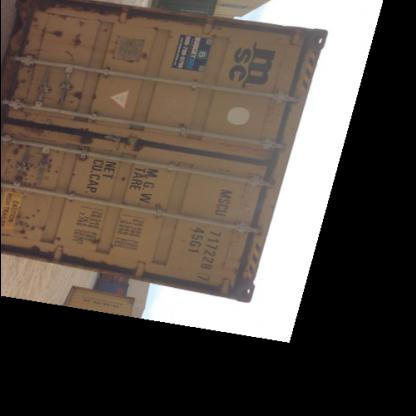Damage: (4, 136, 64, 195), (8, 208, 54, 246), (94, 1, 140, 32), (10, 62, 35, 112), (40, 5, 94, 26), (39, 24, 67, 62), (72, 82, 106, 104), (203, 22, 229, 46), (124, 48, 154, 66), (126, 133, 150, 155), (152, 23, 176, 42), (69, 159, 89, 181), (77, 130, 103, 146), (70, 31, 86, 55), (90, 234, 106, 249), (116, 176, 130, 186)
